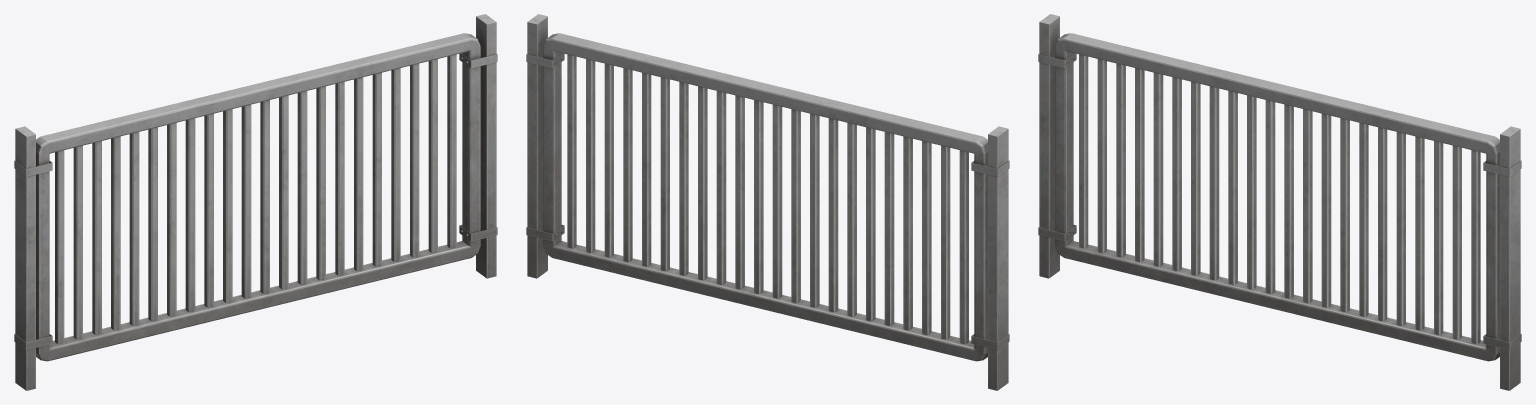
Rendered from strAsset_03.glb.
3 renders of one model, left to right at view 1: azimuth 30°, elevation 25°; view 2: azimuth 150°, elevation 25°; view 3: azimuth 330°, elevation 25°, orthographic.
Visible parts, largest first — view 1: geometry_0; view 2: geometry_0; view 3: geometry_0.
Boxes of the visible parts, x1,y1,x2,y2 form: geometry_0: (14,14,497,390); geometry_0: (526,14,1009,390); geometry_0: (1038,14,1521,390).
Bounding box in the file's own units: 0.331 × 0.1707 × 0.0143.
1 material, 1 textured.
